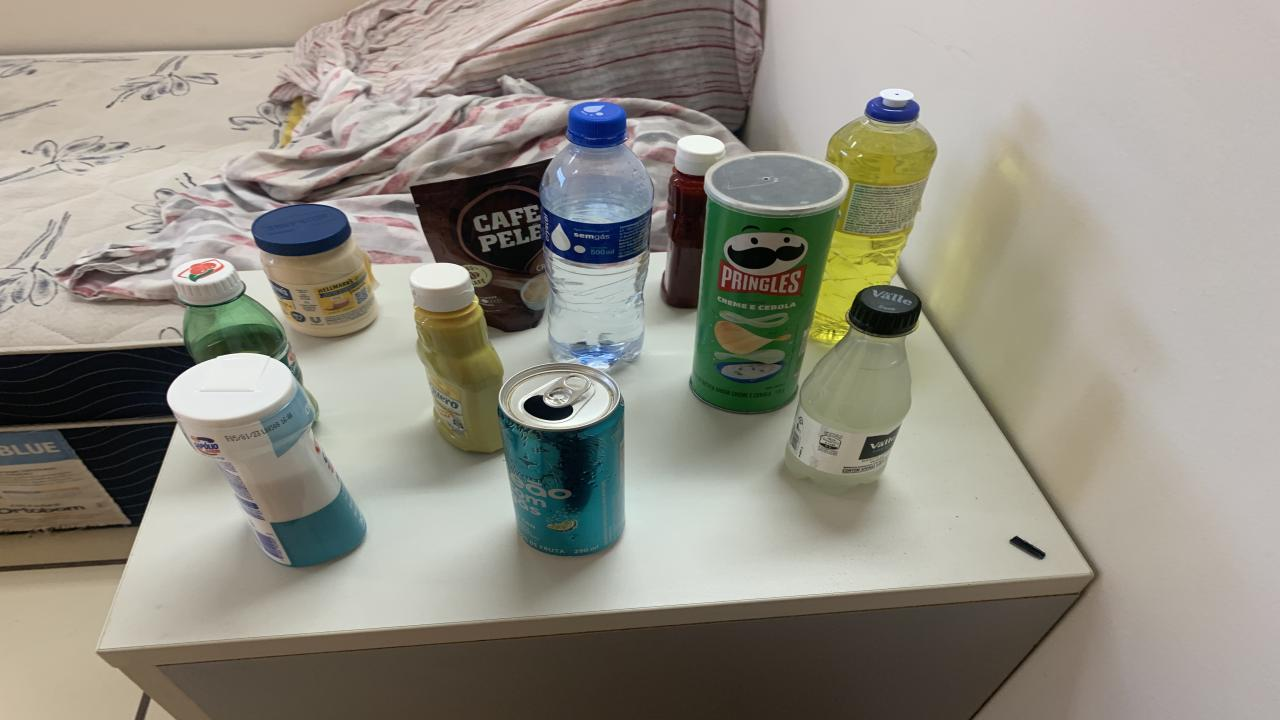Cleaner-Cleanup_Items: (170, 352, 365, 566)
Coffee-Pantry_Items: (410, 161, 550, 332)
Detergent-Cleanup_Items: (810, 88, 938, 343)
Guarana-Drinks: (172, 259, 302, 382)
Ketchup-Pantry_Items: (660, 135, 725, 308)
Mayonnaise-Pantry_Items: (252, 204, 378, 336)
Mustard-Pantry_Items: (410, 262, 502, 452)
Pringles-Snacks: (690, 152, 850, 412)
Soda-Drinks: (785, 285, 922, 495)
Tea-Drinks: (500, 362, 625, 555)
Water_Bottle-Drinks: (540, 101, 652, 368)
